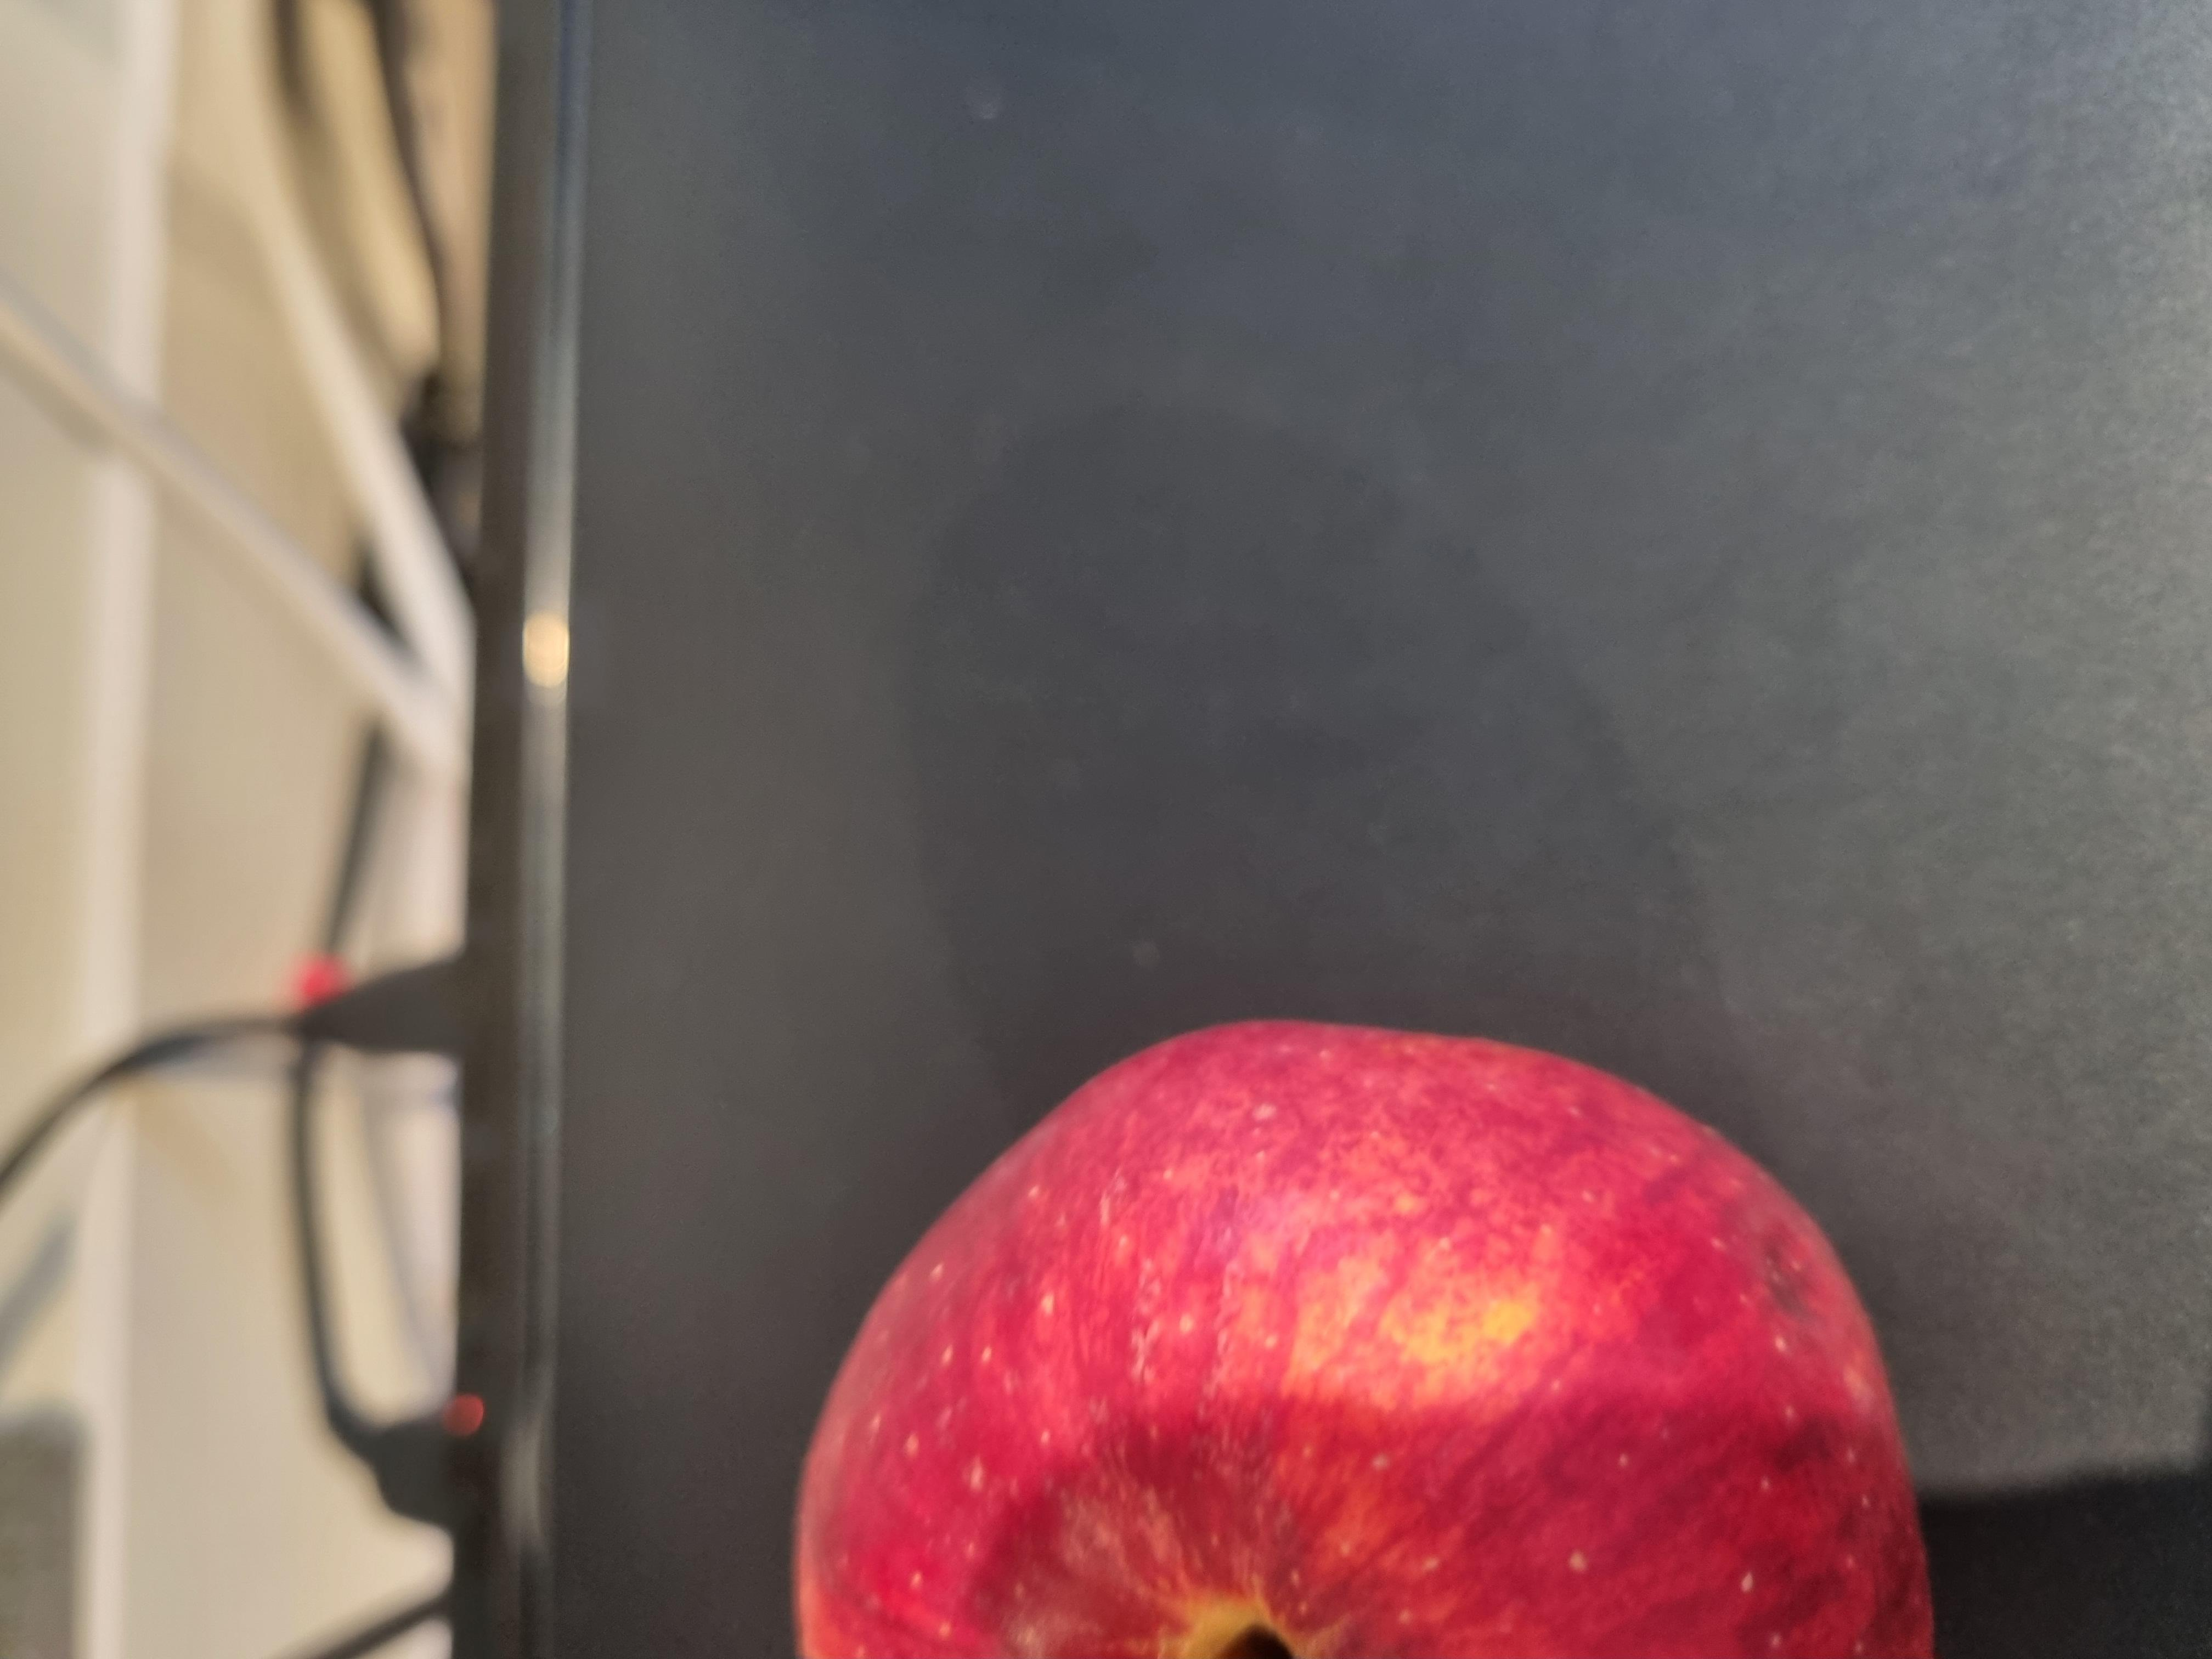Apple: (0, 573, 880, 1499)
